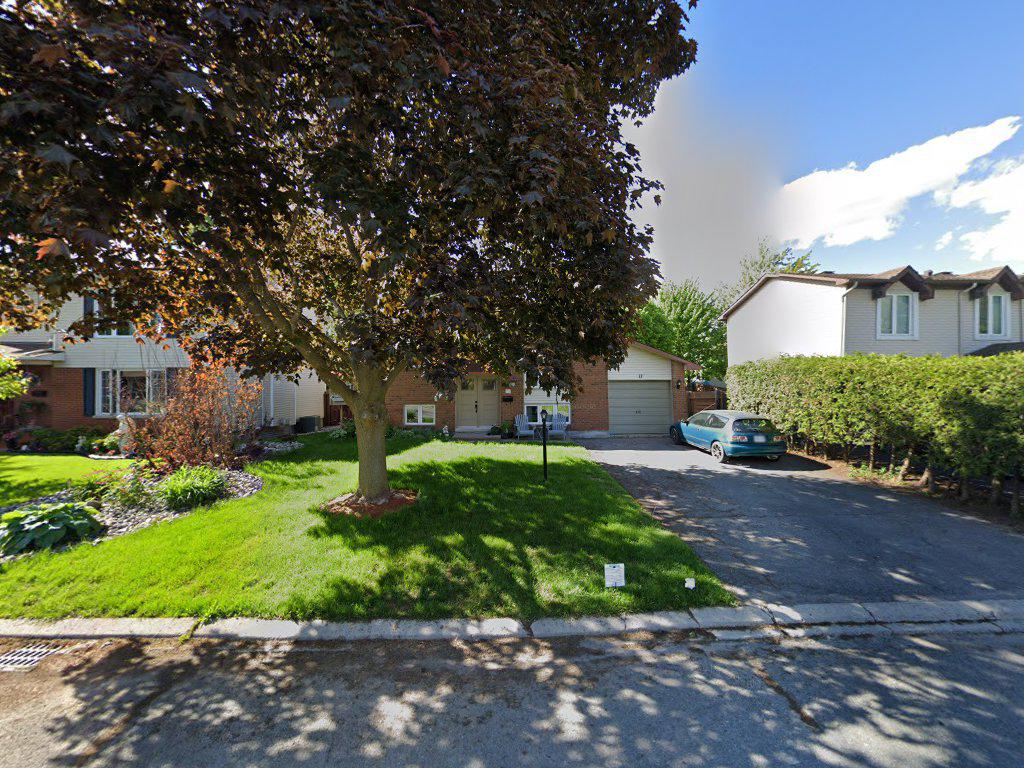trunk: (341, 335, 399, 510)
